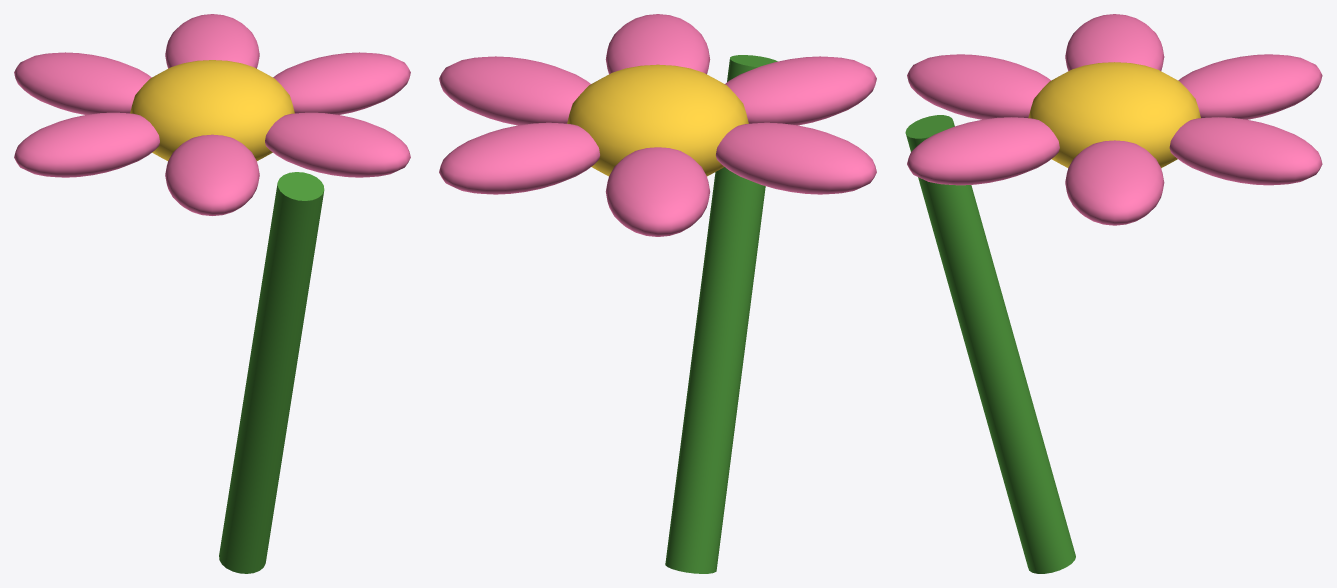
Rendered from top_flower.glb.
3 views of the same model, side by side, from view 1: azimuth 30°, elevation 25°; view 2: azimuth 150°, elevation 25°; view 3: azimuth 270°, elevation 25° (orthographic). The views are drawn at different scales.
Visible parts, largest first — view 1: Stem, Centre, Petal3, Petal5, Petal0, Petal2, Petal4, Petal1; view 2: Stem, Centre, Petal1, Petal3, Petal0, Petal4, Petal2, Petal5; view 3: Stem, Centre, Petal5, Petal1, Petal2, Petal4, Petal0, Petal3.
Part boxes in pixels (left/top/right/bottom): Stem: left=219, top=172, right=324, bottom=573; Centre: left=130, top=60, right=294, bottom=160; Petal3: left=14, top=112, right=159, bottom=177; Petal5: left=265, top=112, right=410, bottom=177; Petal0: left=273, top=52, right=410, bottom=114; Petal2: left=14, top=52, right=151, bottom=114; Petal4: left=165, top=134, right=259, bottom=215; Petal1: left=165, top=14, right=259, bottom=68; Stem: left=665, top=55, right=777, bottom=573; Centre: left=567, top=64, right=748, bottom=176; Petal1: left=439, top=122, right=599, bottom=194; Petal3: left=716, top=122, right=876, bottom=194; Petal0: left=439, top=56, right=590, bottom=125; Petal4: left=725, top=56, right=876, bottom=125; Petal2: left=605, top=147, right=710, bottom=236; Petal5: left=605, top=14, right=710, bottom=74; Stem: left=905, top=115, right=1075, bottom=573; Centre: left=1028, top=62, right=1200, bottom=168; Petal5: left=907, top=117, right=1059, bottom=185; Petal1: left=1169, top=117, right=1322, bottom=185; Petal2: left=1178, top=54, right=1322, bottom=119; Petal4: left=907, top=54, right=1050, bottom=119; Petal0: left=1065, top=140, right=1164, bottom=225; Petal3: left=1065, top=14, right=1164, bottom=70.
Size of the model in its own units: 0.38 by 0.4387 by 0.3365.
